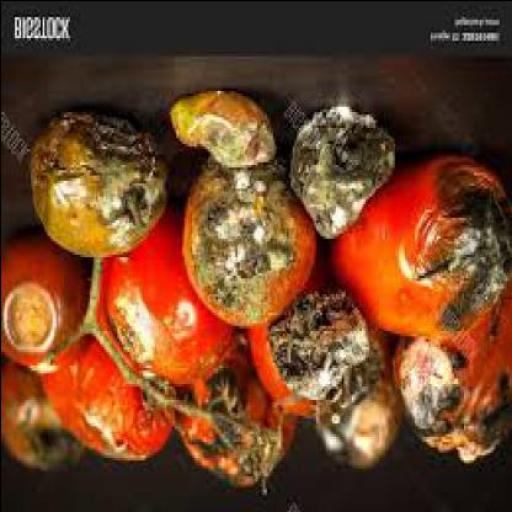biodegradable: (327, 156, 510, 340), (96, 201, 240, 396), (388, 269, 510, 465), (242, 248, 378, 420), (179, 155, 311, 327), (27, 111, 164, 258), (38, 326, 172, 464), (174, 344, 296, 494), (285, 105, 394, 243), (1, 229, 89, 375), (266, 290, 378, 404), (312, 330, 398, 472), (2, 363, 82, 475), (163, 95, 274, 172)
